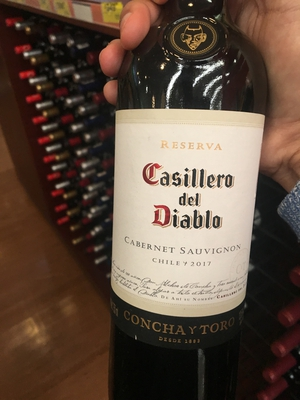casillero del diablo cabernet sauvignon: (96, 20, 275, 400)
